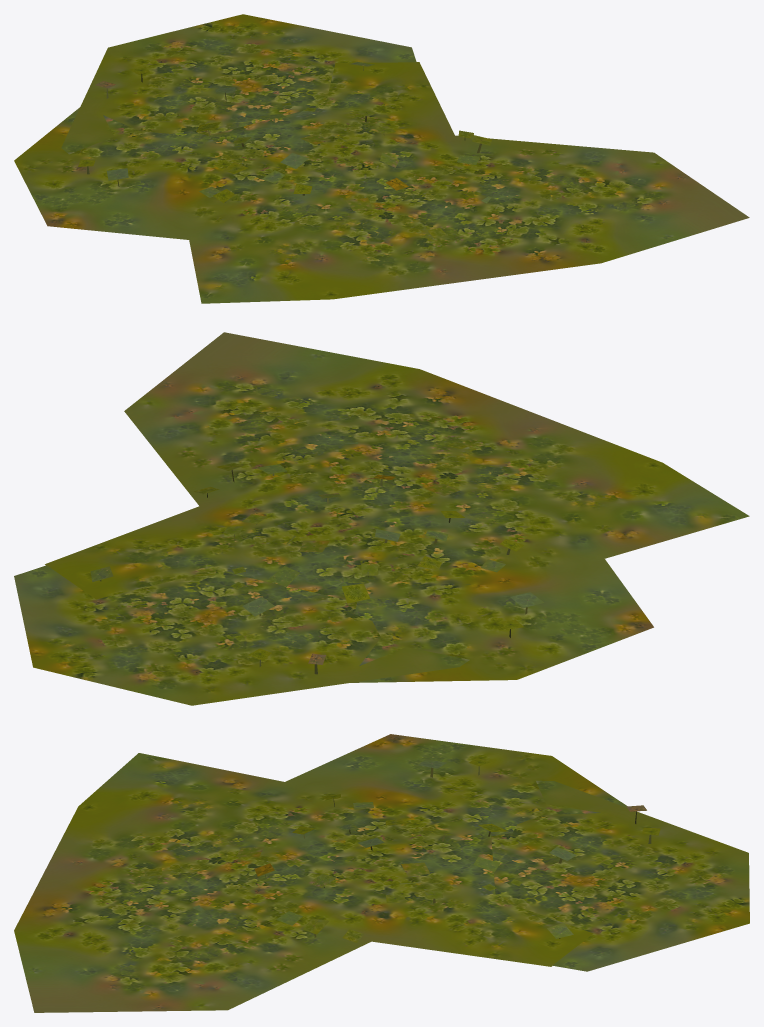
Rendered from Clover_01_Var2.FBX.
3 renders of one model, top to bottom at view 1: azimuth 30°, elevation 25°; view 2: azimuth 150°, elevation 25°; view 3: azimuth 270°, elevation 25°, orthographic. The views are drawn at different scales.
Visible parts, largest first — view 1: Clovers_01_Var2_Lod0; view 2: Clovers_01_Var2_Lod0; view 3: Clovers_01_Var2_Lod0.
Part boxes in pixels (left/top/right/bottom): Clovers_01_Var2_Lod0: left=14, top=14, right=749, bottom=303; Clovers_01_Var2_Lod0: left=14, top=332, right=749, bottom=705; Clovers_01_Var2_Lod0: left=14, top=734, right=749, bottom=1012.
Size of what is drawn, in the model's own units: 75.12 by 3.38 by 83.76.
